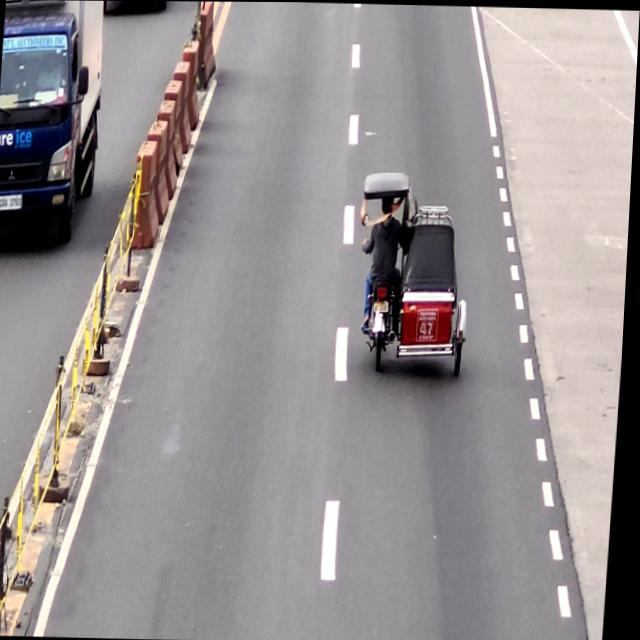License-Plate: (375, 299, 392, 312)
Tricycle: (353, 168, 477, 379)
